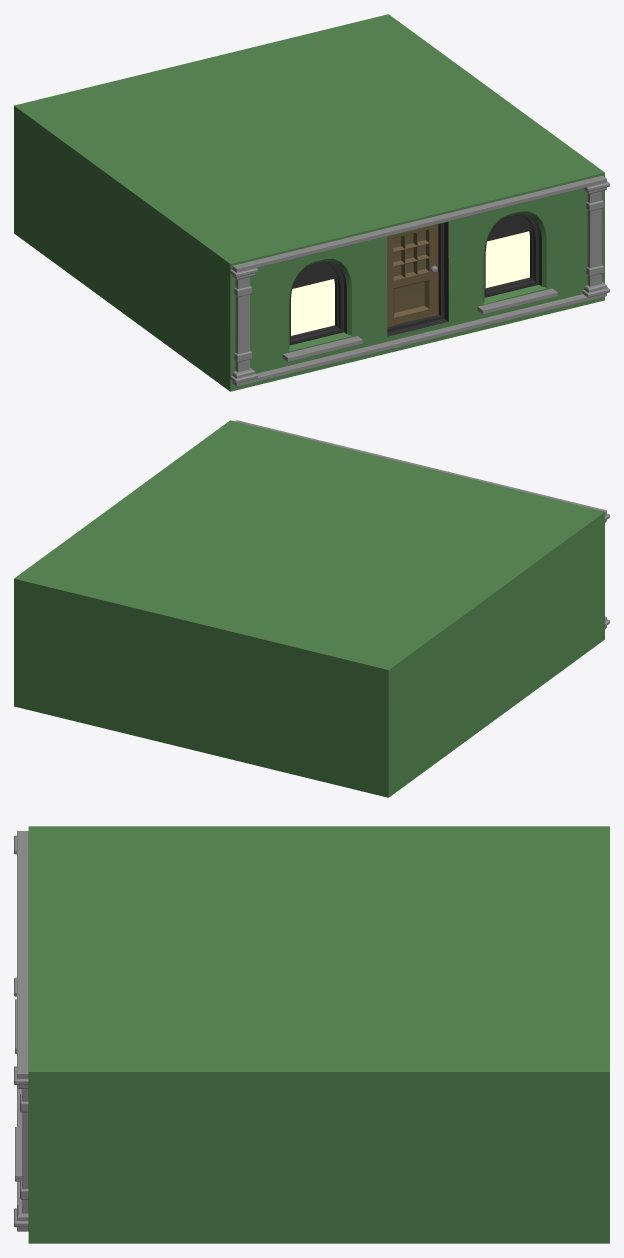
File: Building1 low.fbx
The picture shows the model from 3 angles, top to bottom: view 1: azimuth 30°, elevation 25°; view 2: azimuth 150°, elevation 25°; view 3: azimuth 270°, elevation 25°; orthographic projection. The views are drawn at different scales.
Parts seen in each view (by area): view 1: MIDDLE BUILDING LOW; view 2: MIDDLE BUILDING LOW; view 3: MIDDLE BUILDING LOW.
Boxes of the visible parts, x1,y1,x2,y2 form: MIDDLE BUILDING LOW: [14, 14, 609, 391]; MIDDLE BUILDING LOW: [14, 420, 609, 797]; MIDDLE BUILDING LOW: [14, 826, 609, 1243].
Size of the model in its own units: 1000 by 326 by 1025.
